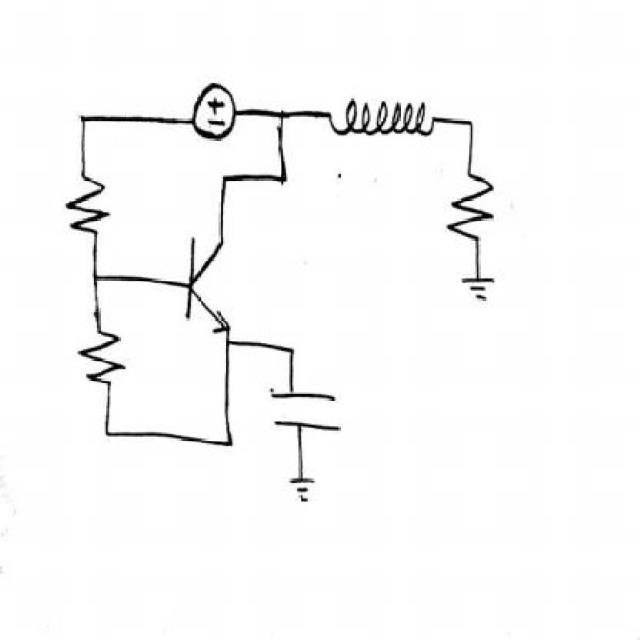capacitor: (262, 370, 354, 447)
resistor: (58, 168, 128, 248), (443, 168, 510, 250), (76, 322, 136, 401), (322, 89, 326, 93)
